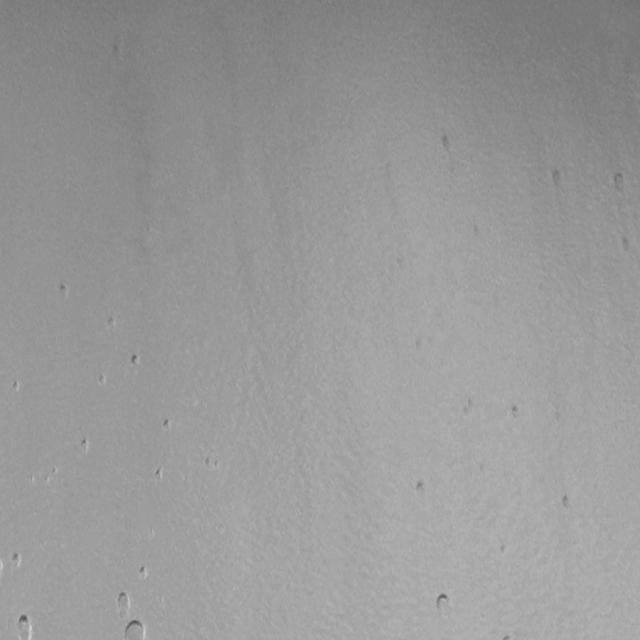pin holes: (14, 612, 36, 640), (432, 593, 454, 621), (609, 171, 631, 198), (122, 616, 146, 640), (548, 166, 569, 191), (412, 477, 432, 502), (113, 593, 131, 617), (558, 490, 577, 512), (438, 133, 455, 154), (508, 402, 524, 423), (618, 234, 634, 255), (56, 282, 71, 302), (11, 550, 24, 568), (153, 466, 166, 484), (161, 416, 174, 433), (128, 354, 142, 369), (136, 566, 149, 582), (11, 378, 24, 394), (107, 314, 120, 330), (81, 438, 93, 455), (96, 373, 108, 388), (414, 336, 424, 354), (477, 458, 484, 473), (500, 542, 508, 555), (464, 406, 470, 418), (503, 633, 512, 640), (468, 399, 473, 410)
